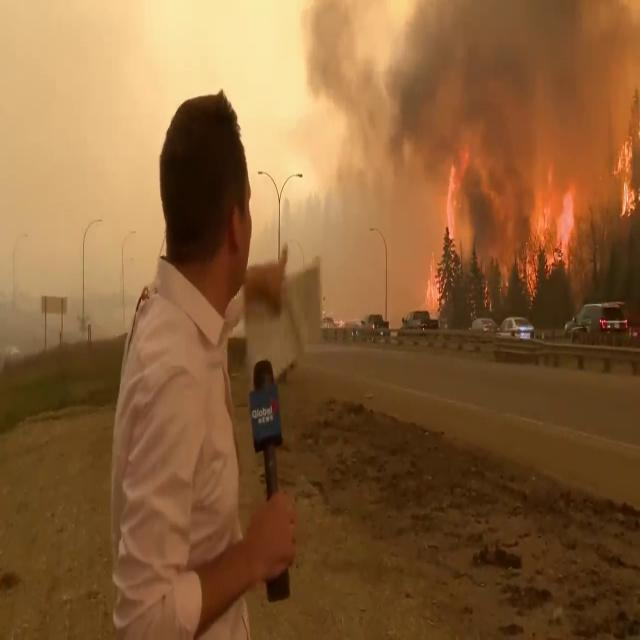Fire: (520, 164, 576, 300), (436, 157, 468, 256), (610, 132, 640, 224)
Smoke: (292, 4, 640, 316)
